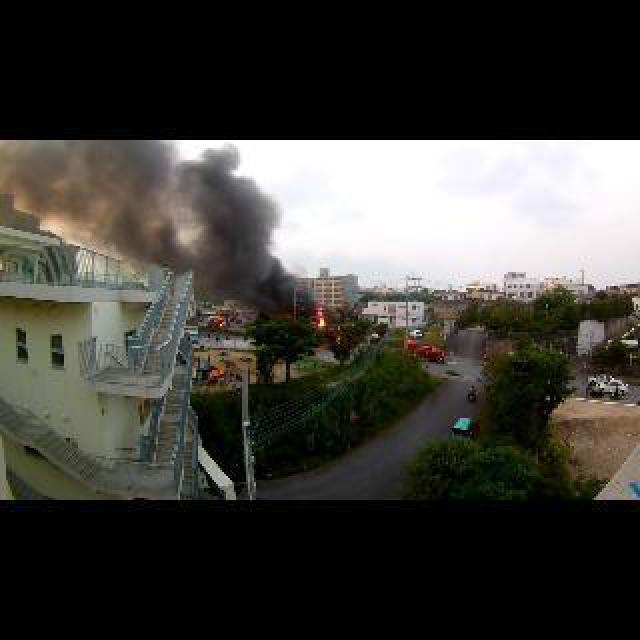smoke: (2, 142, 310, 314)
zfire: (314, 308, 326, 326)
